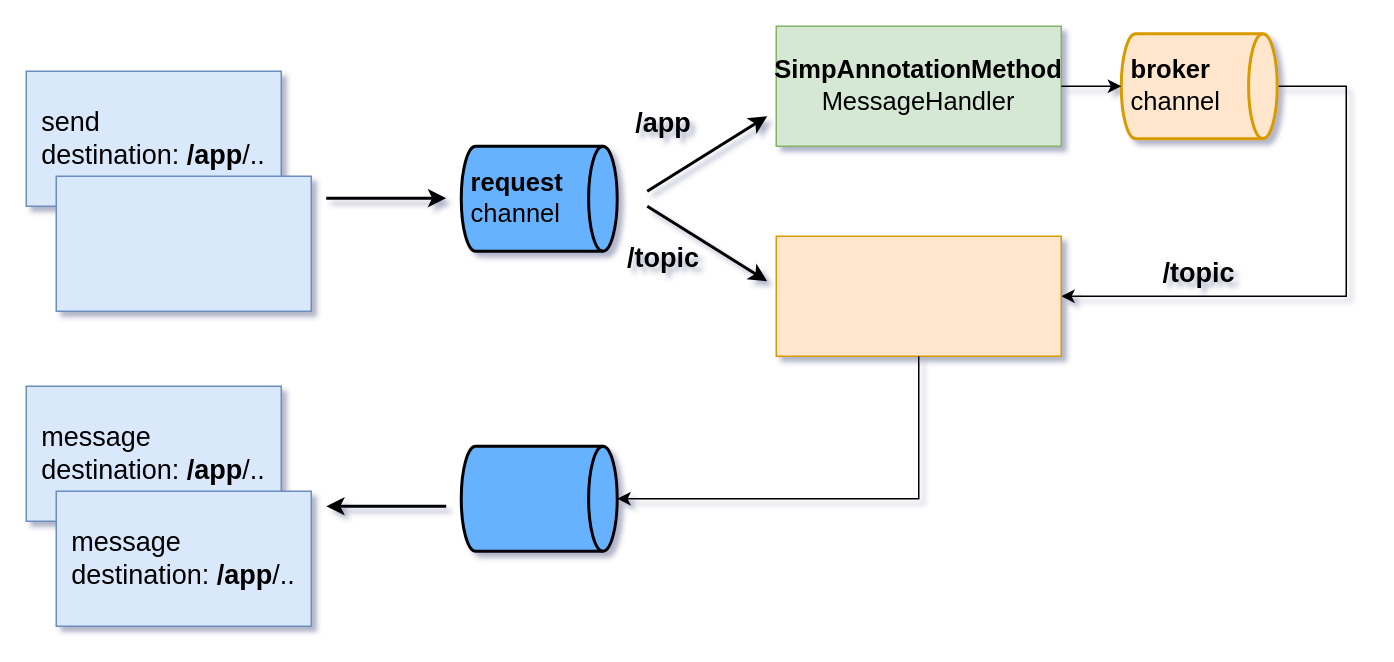
Image size: 1394x662. Some labels were removed from this diagram. The box of each missing label's shape, as (x1, y1, x2, y2) in pixels:
response channel: (459, 444, 618, 552)
send destination: /topic /..: (55, 175, 311, 311)
SimpleBroker MessageHandler: (775, 235, 1061, 356)
